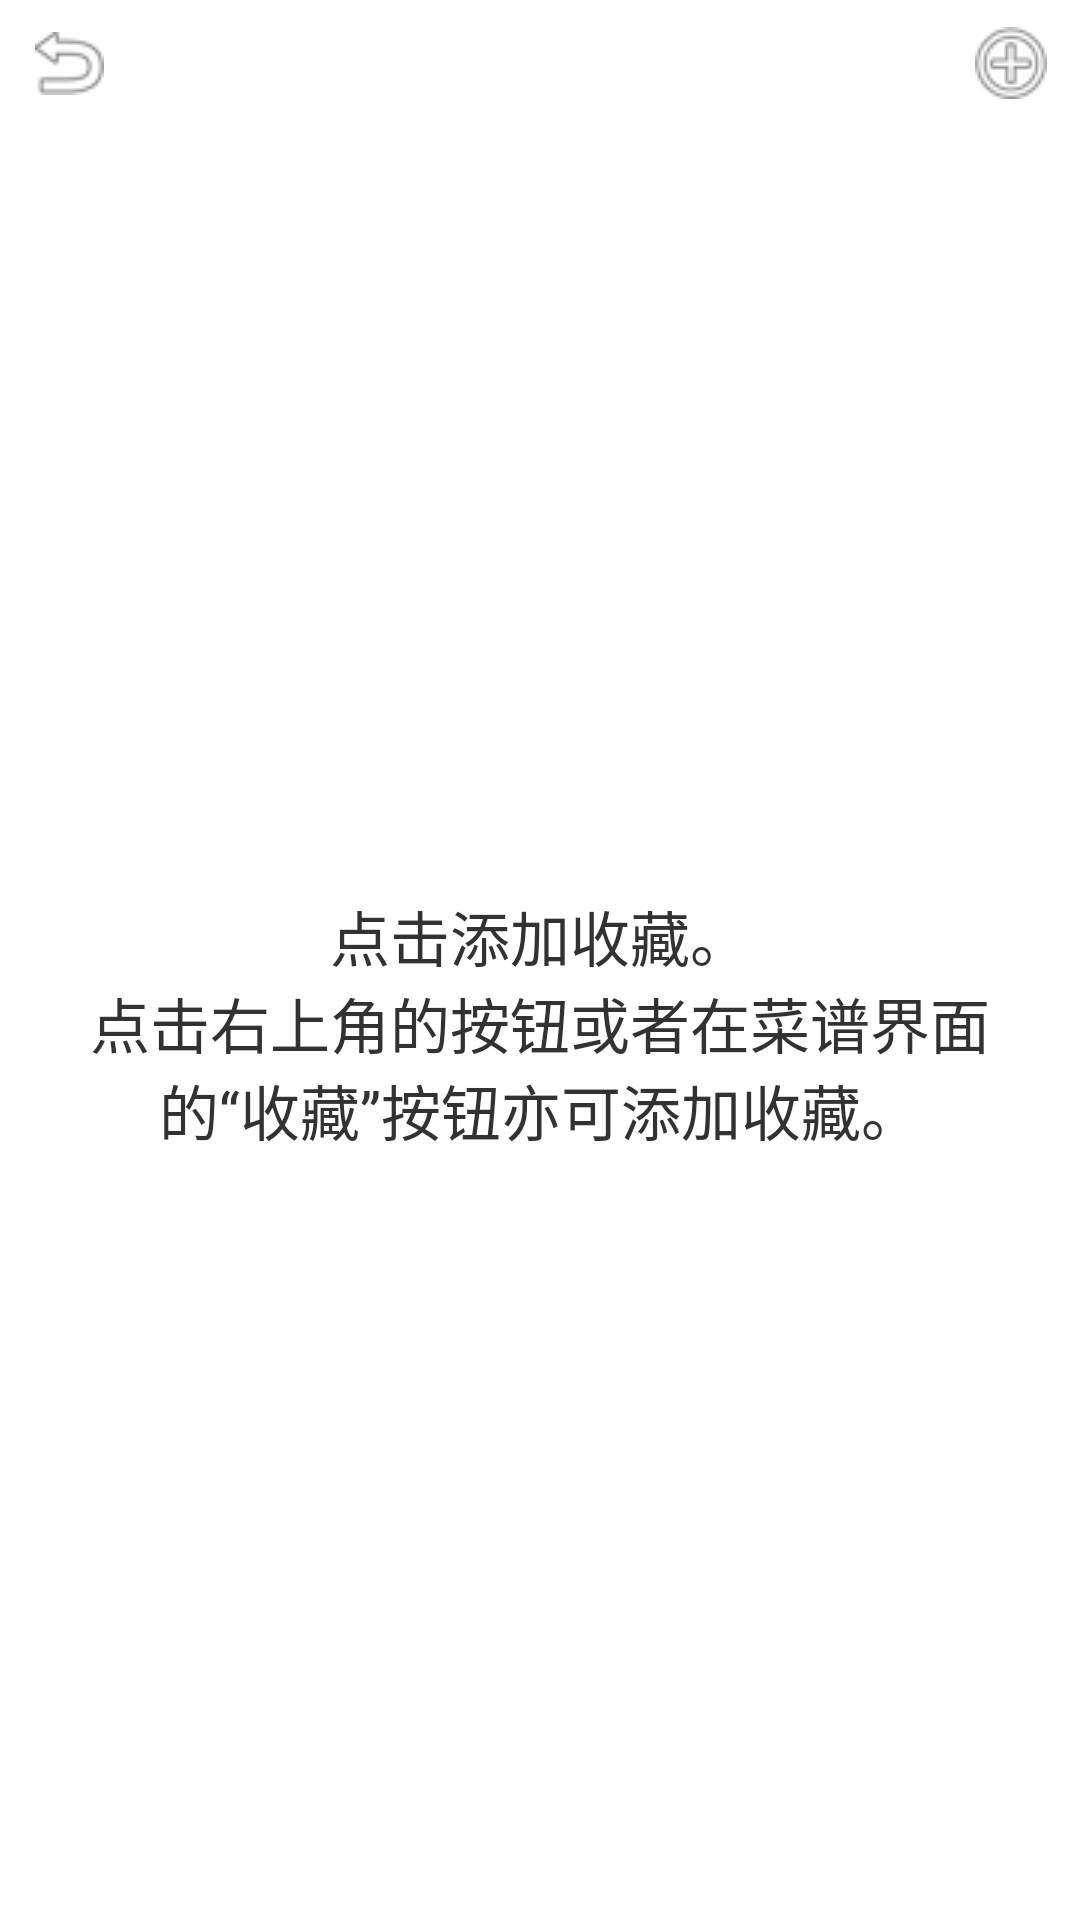

Locate icon controls on the screen. Image size 1080px×1920px, boxes as [x1, y1, x2, y2].
返回: [35, 32, 104, 95]
